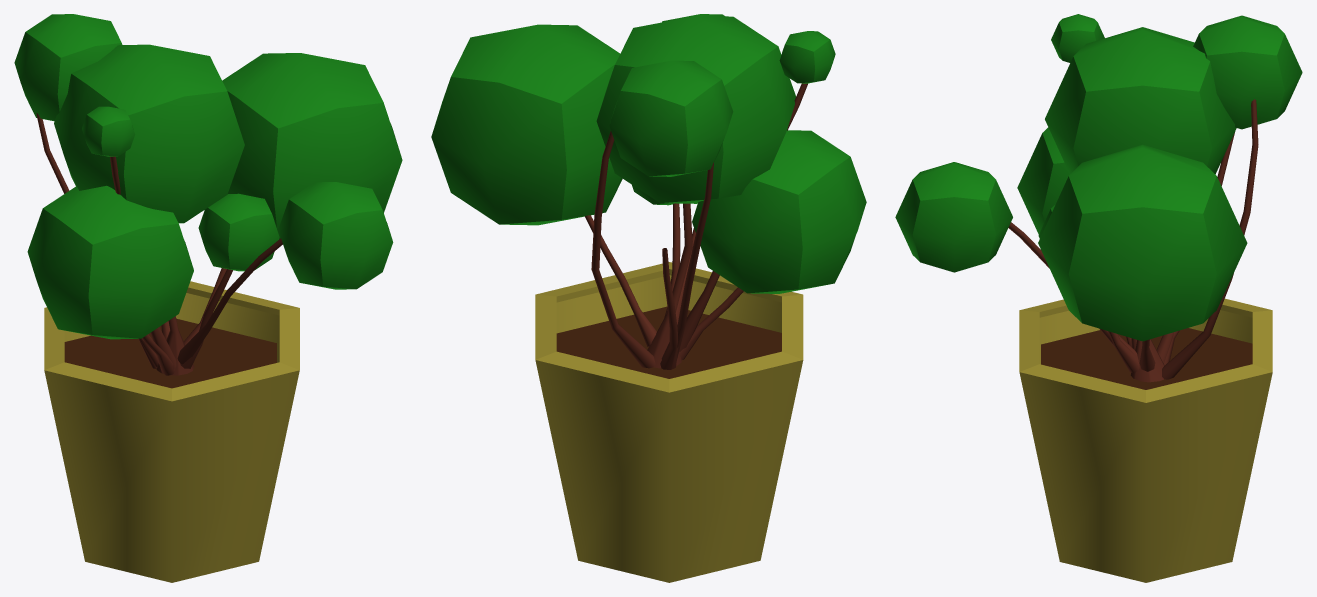
File: vaso1.FBX
3 views of the same model, side by side, from view 1: azimuth 30°, elevation 25°; view 2: azimuth 150°, elevation 25°; view 3: azimuth 270°, elevation 25° (orthographic). The views are drawn at different scales.
Visible parts, largest first — view 1: vaso1; view 2: vaso1; view 3: vaso1.
Boxes of the visible parts, box(x1,y1,x2,y2) form: vaso1: box(14, 14, 402, 582); vaso1: box(431, 14, 866, 582); vaso1: box(895, 14, 1302, 582).
Size of the model in its own units: 35.19 by 45.02 by 33.29.
